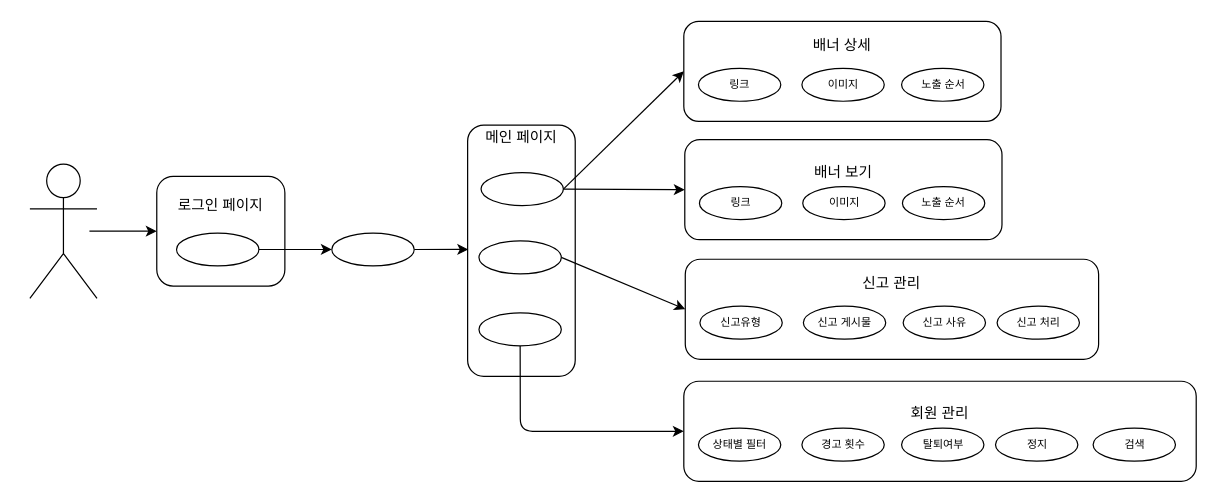
The diagram is 1218 pixels wide and 503 high, and some of its shapes have lost their labels. Each missing label, with the centre of its shape:
관리자: [63,230]
관리자 로그인: [217,249]
구글 로그인: [372,249]
신고 목록: [519,257]
행사 배너 관리: [521,188]
회원관리: [519,329]
